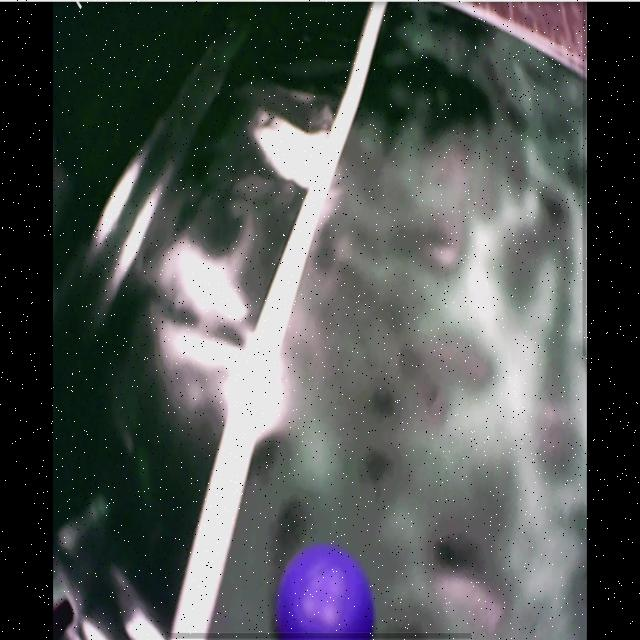ball: (279, 544, 375, 640)
